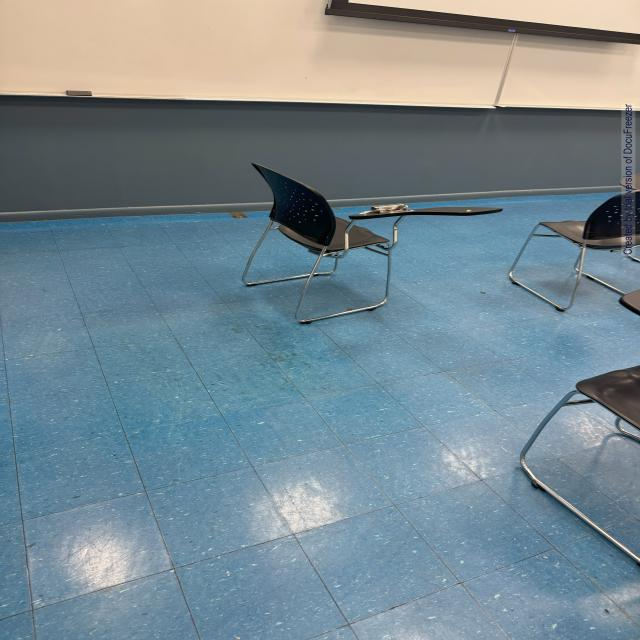chair: (240, 157, 400, 347), (501, 182, 640, 318)
